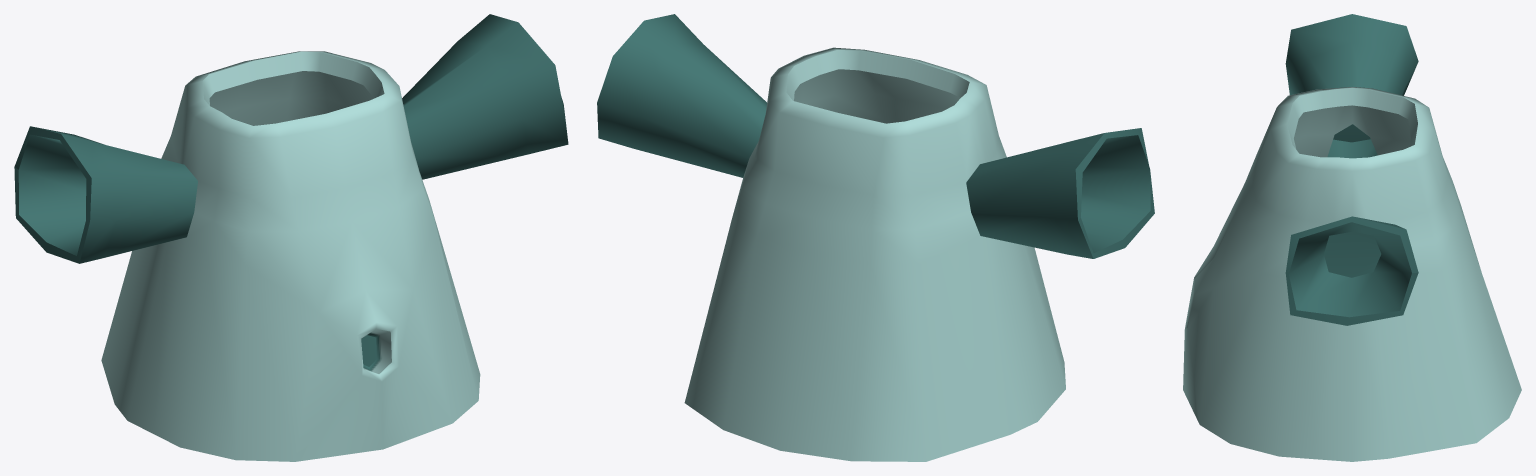
Rendered from Ground_Body.fbx.
3 renders of one model, left to right at view 1: azimuth 30°, elevation 25°; view 2: azimuth 150°, elevation 25°; view 3: azimuth 270°, elevation 25°, orthographic. The views are drawn at different scales.
Parts seen in each view (by area): view 1: polySurface2; view 2: polySurface2; view 3: polySurface2.
Part boxes in pixels (x1,y1,x2,y2): polySurface2: [14, 14, 568, 461]; polySurface2: [597, 14, 1154, 461]; polySurface2: [1183, 14, 1521, 461].
Size of the model in its own units: 7.29 by 4.36 by 4.79.
Materials: 1 (1 with a texture image).
